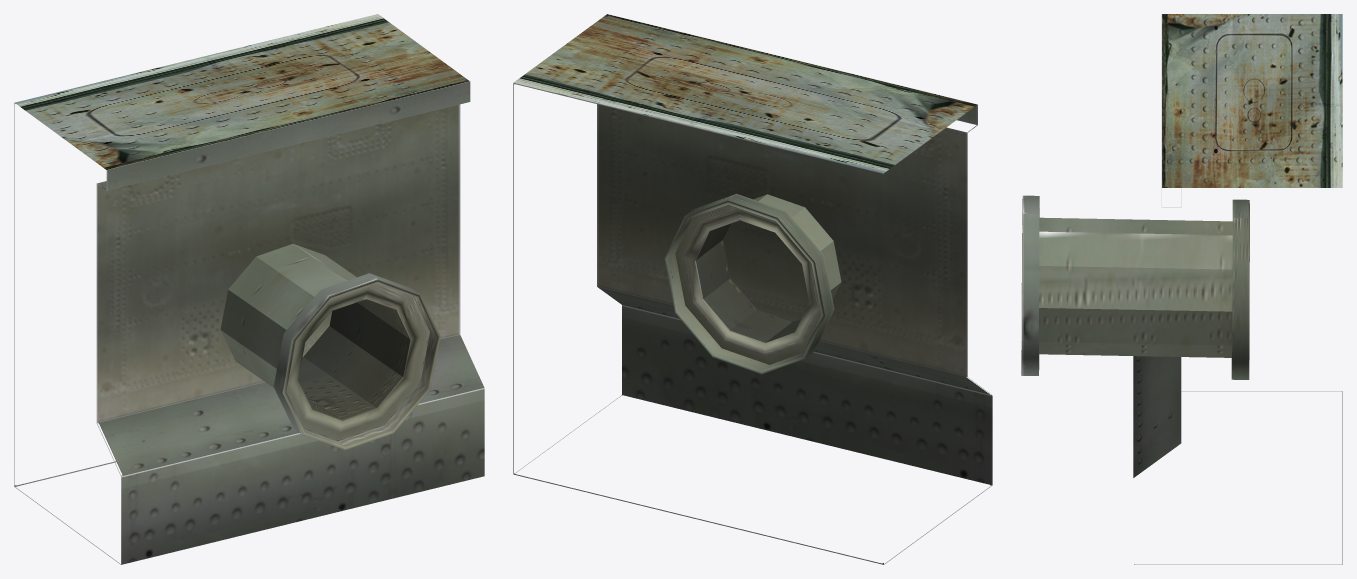
File: WallWithPipe.fbx
3 renders of one model, left to right at view 1: azimuth 30°, elevation 25°; view 2: azimuth 150°, elevation 25°; view 3: azimuth 270°, elevation 25°, orthographic. The views are drawn at different scales.
Parts seen in each view (by area): view 1: UnitWall, pasted__extrudedSurface7; view 2: UnitWall, pasted__extrudedSurface7; view 3: UnitWall, pasted__extrudedSurface7.
Boxes of the visible parts, x1,y1,x2,y2 form: UnitWall: (14,14,484,564); pasted__extrudedSurface7: (220,243,440,450); UnitWall: (513,14,992,564); pasted__extrudedSurface7: (664,193,841,374); UnitWall: (1133,14,1342,564); pasted__extrudedSurface7: (1021,195,1249,379).
Bounding box in the file's own units: 1.98 × 2 × 1.54.
2 materials, 2 textured.
